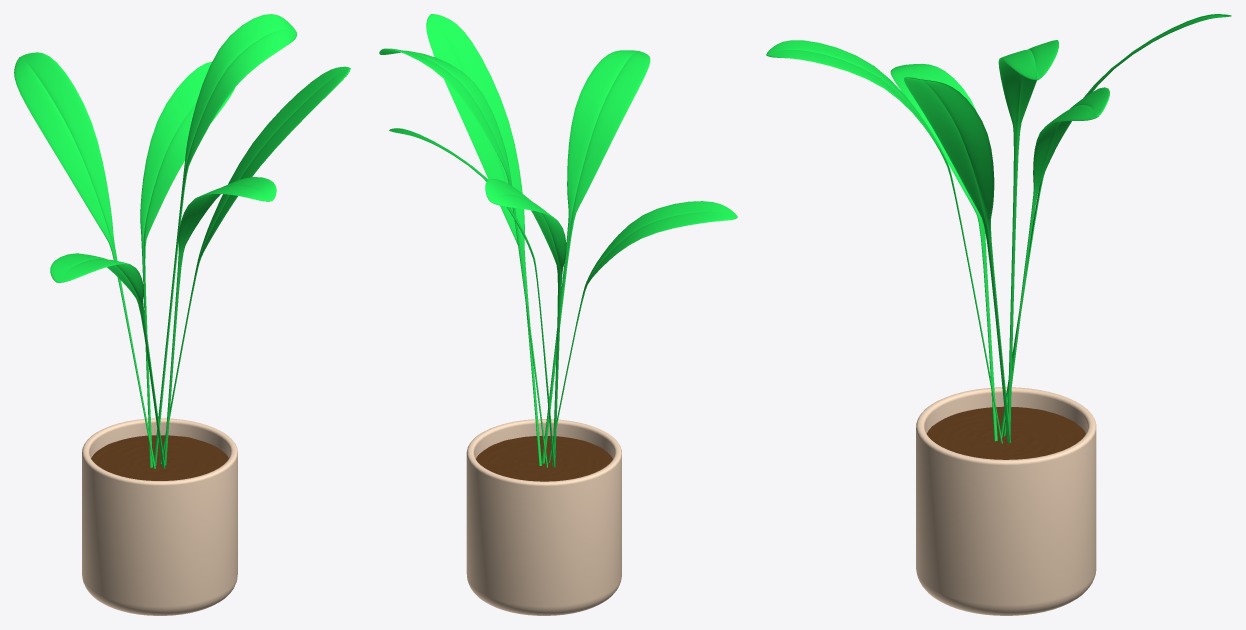
3 renders of one model, left to right at view 1: azimuth 30°, elevation 25°; view 2: azimuth 150°, elevation 25°; view 3: azimuth 270°, elevation 25°, orthographic. The views are drawn at different scales.
Parts seen in each view (by area): view 1: Cylinder, Plane_8, Plane_4, Plane_6, Disc_1_2, Plane_2, Plane_12, Plane_10; view 2: Cylinder, Plane_12, Plane_2, Disc_1_2, Plane_10, Plane_4, Plane_8, Plane_6; view 3: Cylinder, Plane_2, Disc_1_2, Plane_4, Plane_12, Plane_6, Plane_10, Plane_8.
Part boxes in pixels (box(x1,y1,x2,y2)): Cylinder: box(82, 418, 237, 615); Plane_8: box(14, 52, 155, 468); Plane_4: box(154, 14, 296, 465); Plane_6: box(140, 62, 234, 467); Disc_1_2: box(91, 435, 228, 480); Plane_2: box(160, 66, 350, 463); Plane_12: box(164, 177, 276, 465); Plane_10: box(50, 253, 165, 468); Cylinder: box(466, 419, 621, 615); Plane_12: box(542, 50, 650, 463); Plane_2: box(426, 14, 541, 465); Disc_1_2: box(476, 435, 612, 481); Plane_10: box(548, 201, 737, 462); Plane_4: box(379, 48, 547, 467); Plane_8: box(485, 179, 566, 465); Plane_6: box(389, 128, 555, 467); Cylinder: box(916, 387, 1096, 615); Plane_2: box(904, 77, 1010, 442); Disc_1_2: box(926, 406, 1085, 459); Plane_4: box(998, 40, 1058, 438); Plane_12: box(766, 40, 1002, 443); Plane_6: box(1003, 87, 1109, 436); Plane_10: box(890, 63, 997, 441); Plane_8: box(999, 14, 1231, 437).
Size of the model in its own units: 0.7915 by 1.32 by 0.9152.
